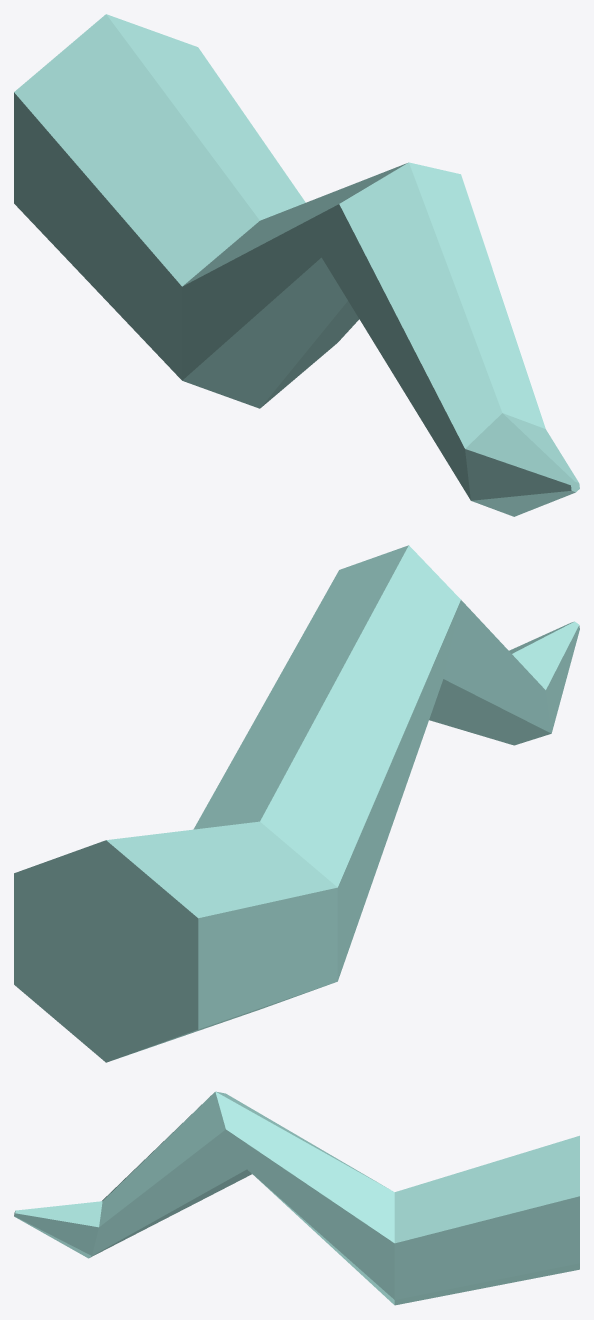
File: Ice2.fbx
The picture shows the model from 3 angles, top to bottom: view 1: azimuth 30°, elevation 25°; view 2: azimuth 150°, elevation 25°; view 3: azimuth 270°, elevation 25°; orthographic projection. The views are drawn at different scales.
Visible parts, largest first — view 1: Peak; view 2: Peak; view 3: Peak.
Part boxes in pixels (left/top/right/bottom): Peak: left=14, top=14, right=579, bottom=516; Peak: left=14, top=545, right=579, bottom=1062; Peak: left=14, top=1091, right=579, bottom=1305.
Size of the model in its own units: 205 by 378 by 906.
